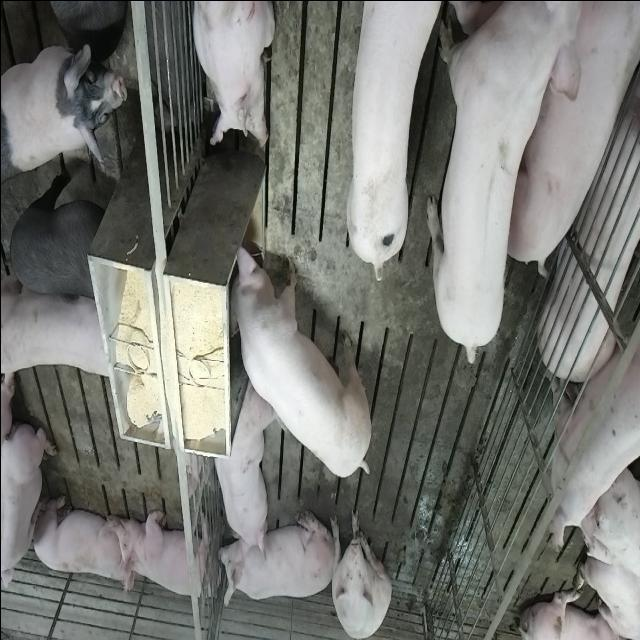Feeding: (230, 239, 376, 478)
Lateral_lying: (506, 0, 640, 270)
Sitting: (328, 505, 391, 638)
Standing: (430, 3, 585, 365), (344, 0, 439, 272), (550, 308, 640, 546), (2, 36, 128, 175), (4, 160, 112, 301), (2, 270, 120, 384), (31, 0, 127, 31)
Sternal_lying: (190, 0, 274, 150), (209, 377, 270, 558), (218, 508, 328, 608), (2, 418, 56, 602), (116, 506, 215, 604), (29, 491, 129, 588)
